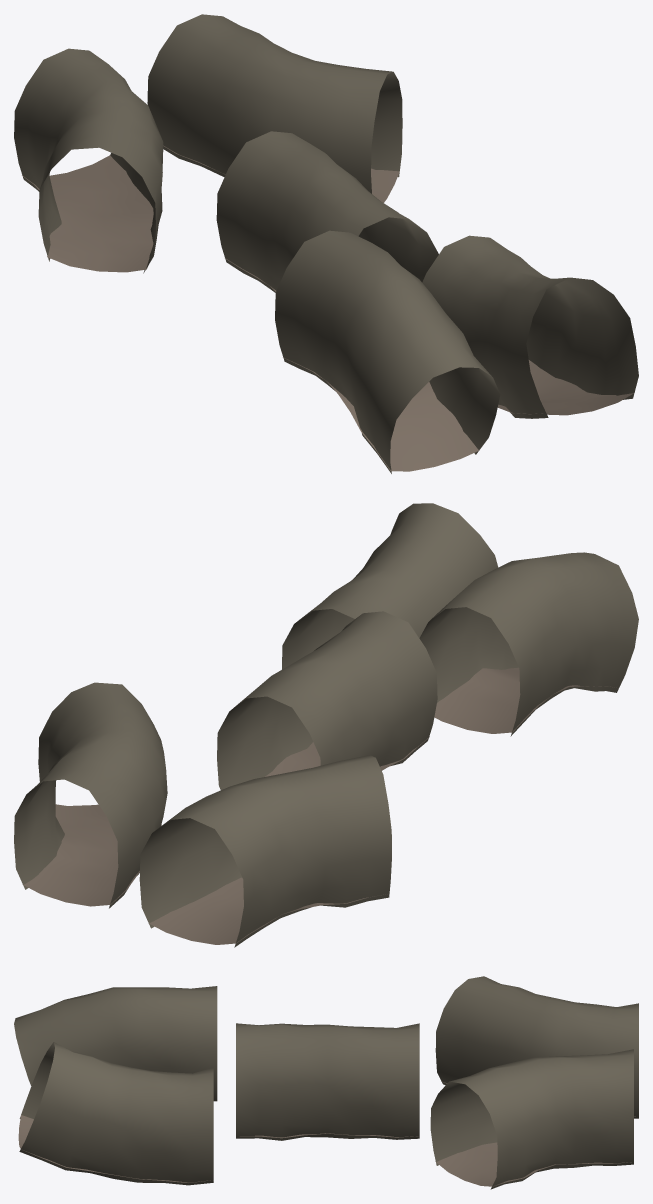
File: rock_cave.fbx
3 renders of one model, top to bottom at view 1: azimuth 30°, elevation 25°; view 2: azimuth 150°, elevation 25°; view 3: azimuth 270°, elevation 25°, orthographic. The views are drawn at different scales.
Parts seen in each view (by area): view 1: cave_turn_down, cave_turn_l, cave_turn_r, cave_turn_up, cave_flat; view 2: cave_turn_r, cave_turn_down, cave_turn_l, cave_flat, cave_turn_up; view 3: cave_turn_l, cave_turn_up, cave_flat, cave_turn_down, cave_turn_r.
Part boxes in pixels (left/top/right/bottom): cave_turn_down: left=275, top=230, right=500, bottom=473; cave_turn_l: left=147, top=14, right=402, bottom=202; cave_turn_r: left=14, top=48, right=163, bottom=273; cave_turn_up: left=422, top=235, right=638, bottom=418; cave_flat: left=216, top=131, right=438, bottom=292; cave_turn_r: left=139, top=755, right=391, bottom=947; cave_turn_down: left=419, top=552, right=638, bottom=736; cave_turn_l: left=14, top=682, right=167, bottom=908; cave_flat: left=217, top=611, right=437, bottom=789; cave_turn_up: left=282, top=503, right=498, bottom=669; cave_turn_l: left=430, top=1049, right=633, bottom=1189; cave_turn_up: left=18, top=1042, right=213, bottom=1185; cave_flat: left=236, top=1023, right=419, bottom=1140; cave_turn_down: left=14, top=986, right=217, bottom=1101; cave_turn_r: left=435, top=976, right=638, bottom=1118.
Size of the model in its own units: 1099 by 482 by 2112.
